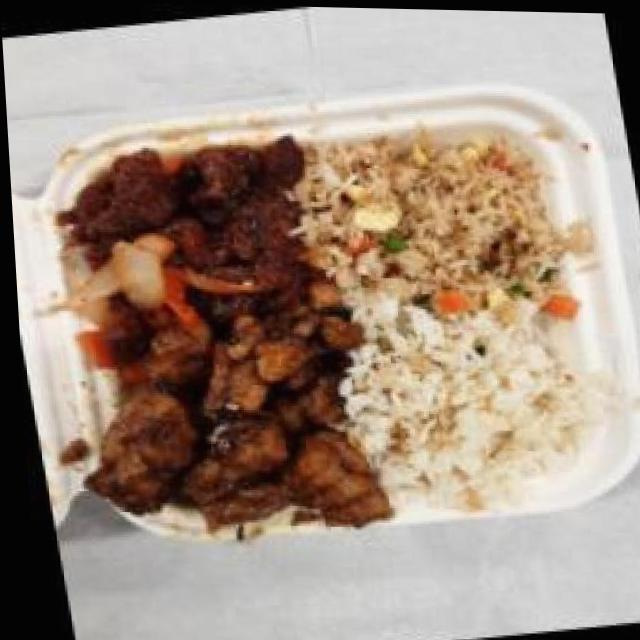Beijing Beef: (28, 120, 326, 345)
Fried Rice: (283, 110, 574, 343)
The Original Orange Chicken: (52, 291, 394, 559)
White Steamed Rice: (327, 295, 602, 515)
